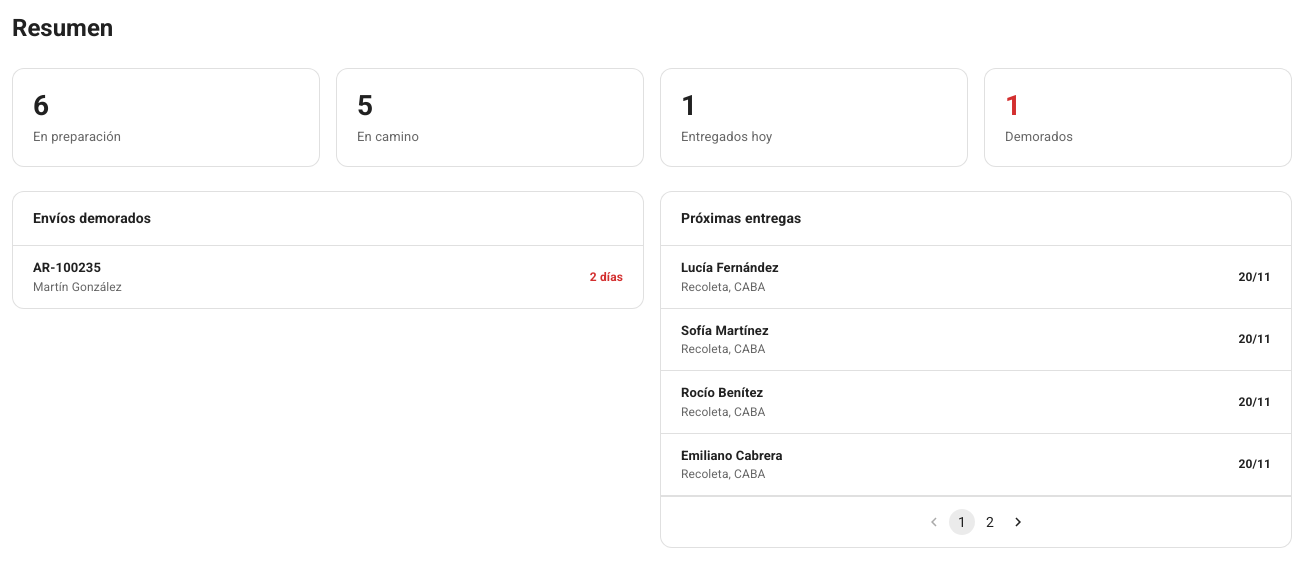
Test: HomePage › pide la página siguiente al backend al cambiar de página
The width and height of the screenshot is (1292, 565).
Expected: the text "Lucía Fernández" is shown, 681,258 -> 779,278
Click the button named "page 2": (990, 522) 977,509 -> 1003,535
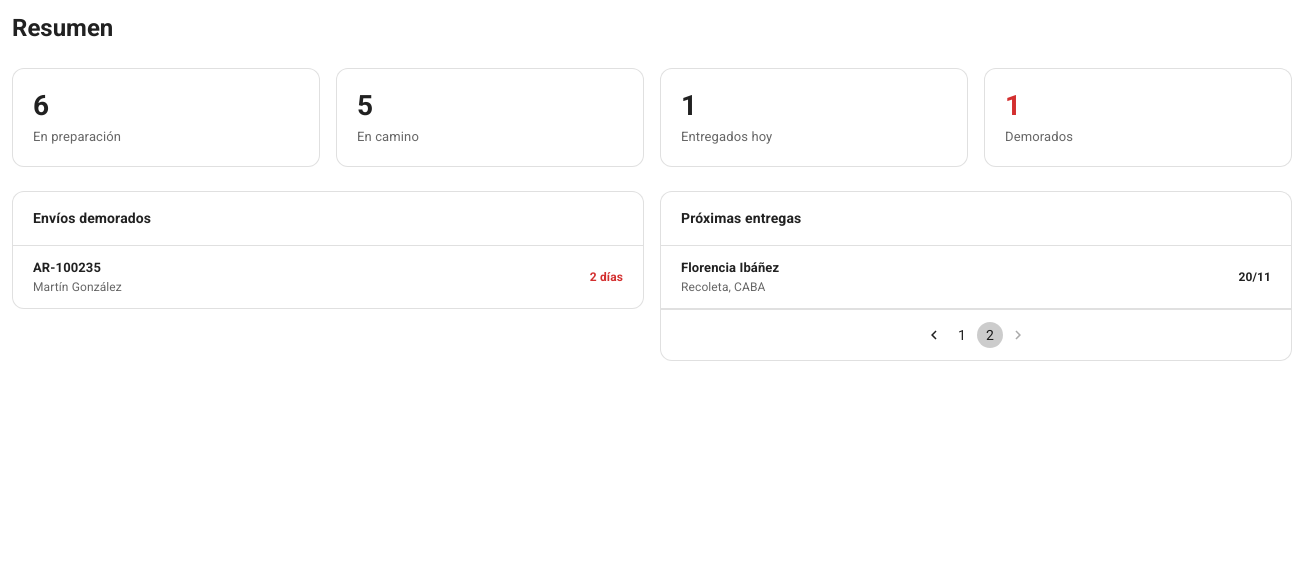
Expected: the text "Florencia Ibáñez" is shown, 681,258 -> 779,278
Expected: the text "Lucía Fernández" is gone
